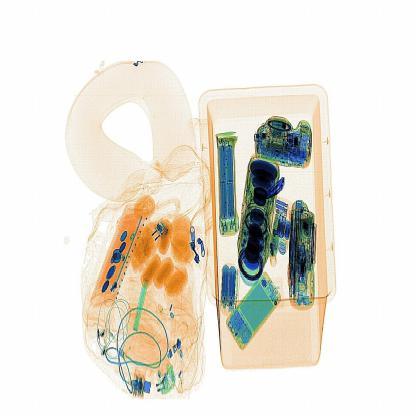knife: (264, 174, 293, 201)
